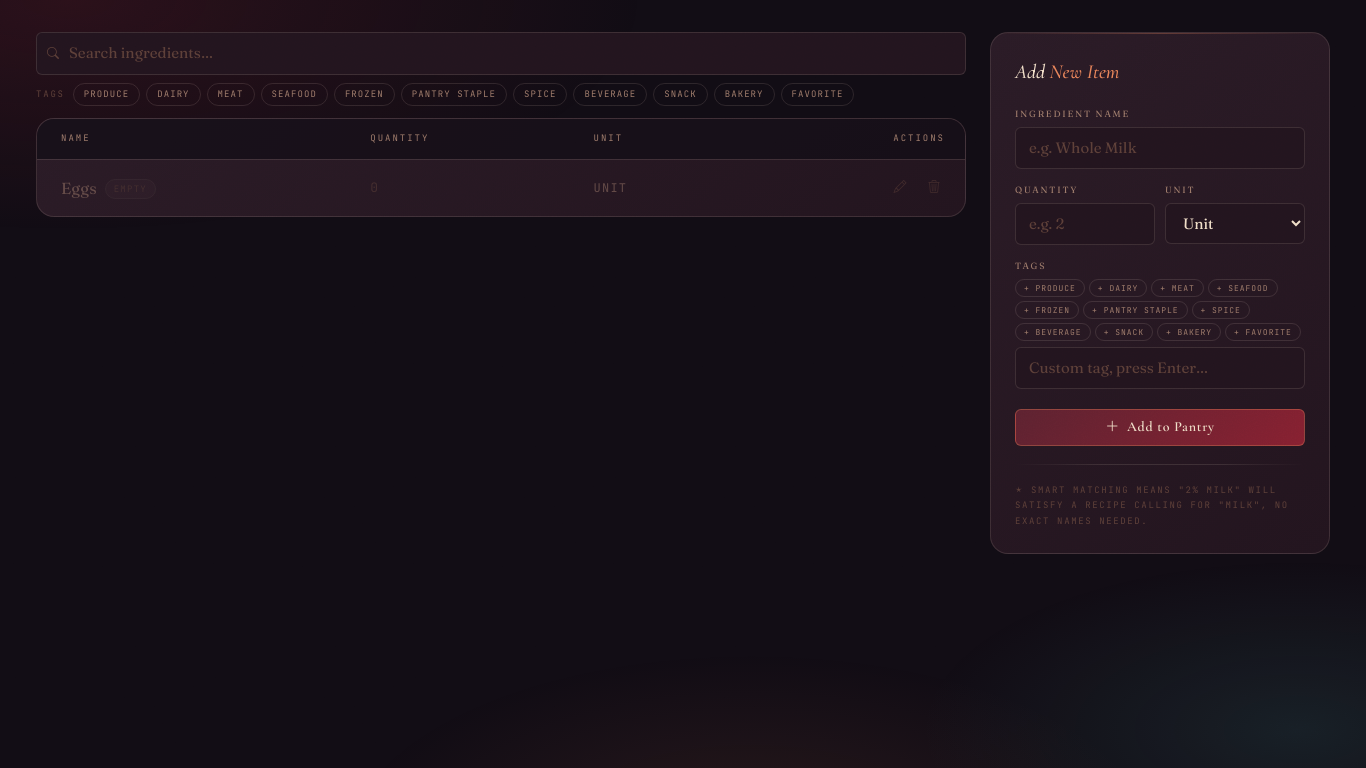
depleted items › depleted item does not show Empty pill when in edit mode
Click the button titled "Edit". click: (900, 188)
box: [885,172,915,202]
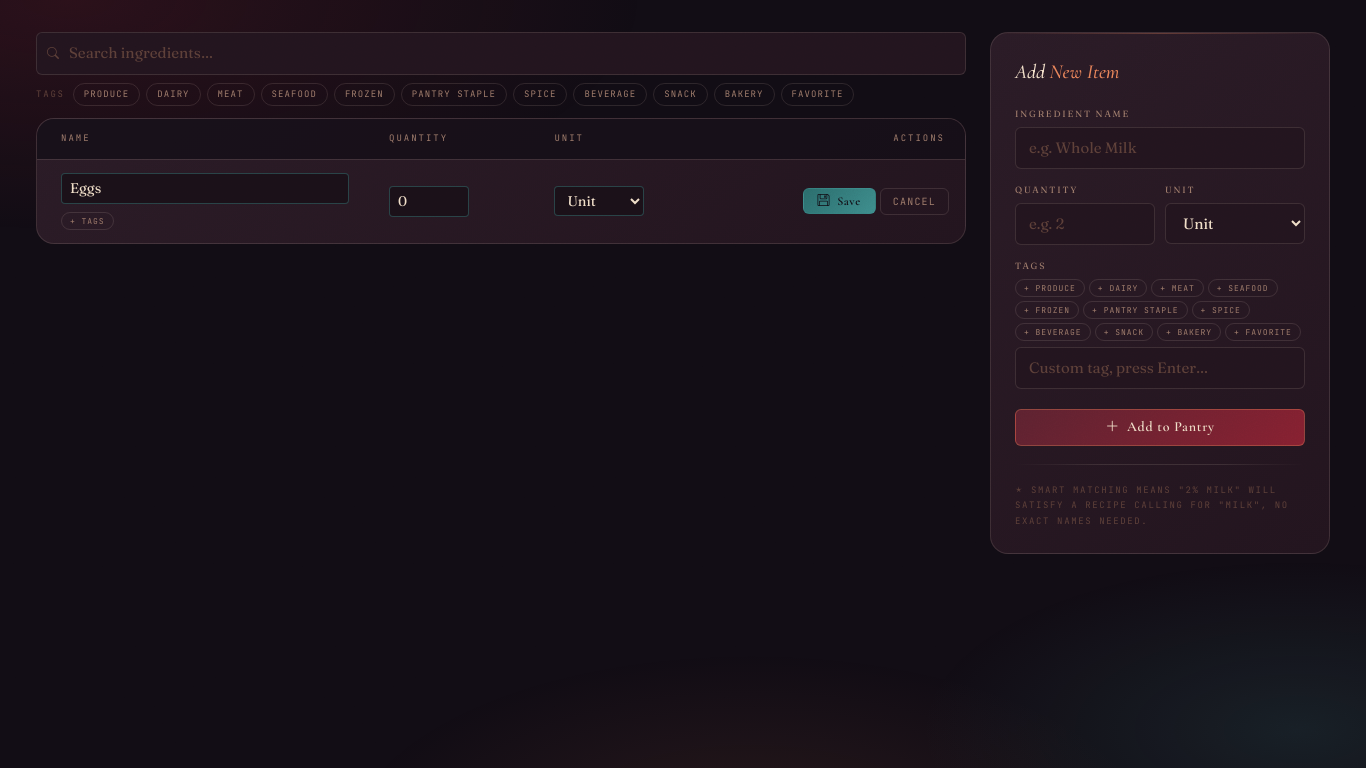
Now the text "Empty" is gone
